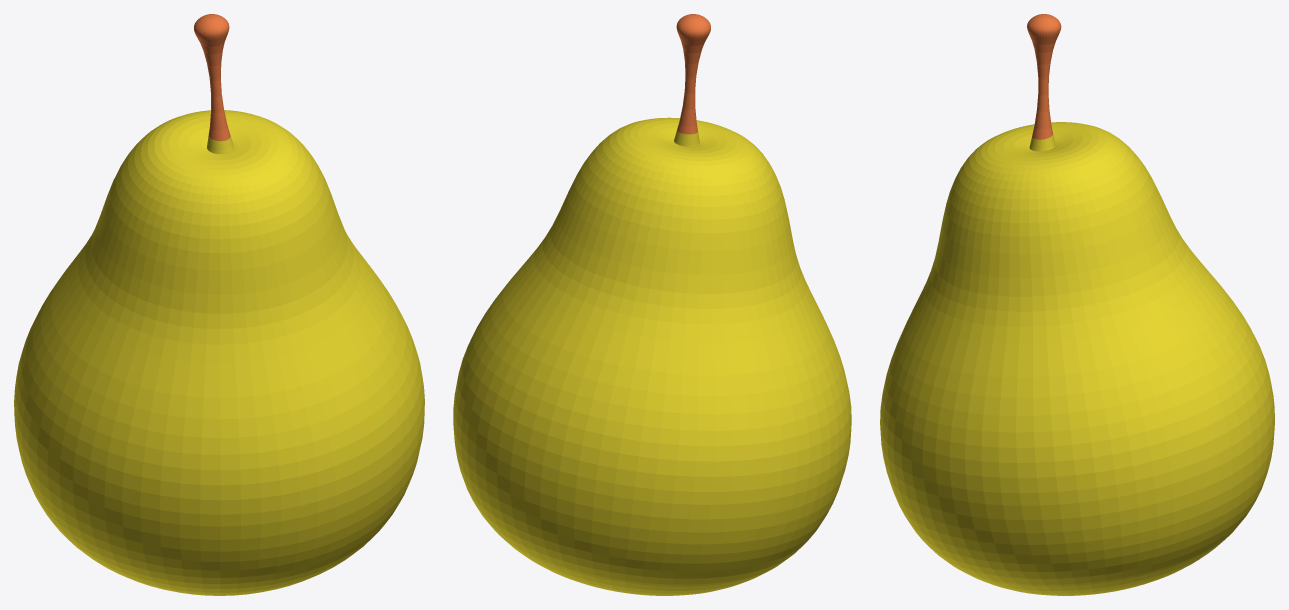
File: Pear.fbx
The picture shows the model from 3 angles, left to right: view 1: azimuth 30°, elevation 25°; view 2: azimuth 150°, elevation 25°; view 3: azimuth 270°, elevation 25°; orthographic projection. The views are drawn at different scales.
Parts seen in each view (by area): view 1: Pear, Pear.001; view 2: Pear, Pear.001; view 3: Pear, Pear.001.
Part boxes in pixels (x1,y1,x2,y2): Pear: (14, 110, 424, 595); Pear.001: (194, 14, 230, 141); Pear: (453, 117, 851, 595); Pear.001: (676, 14, 710, 134); Pear: (880, 122, 1274, 595); Pear.001: (1027, 14, 1061, 139).
Bounding box in the file's own units: 6570 × 9910 × 6569.
